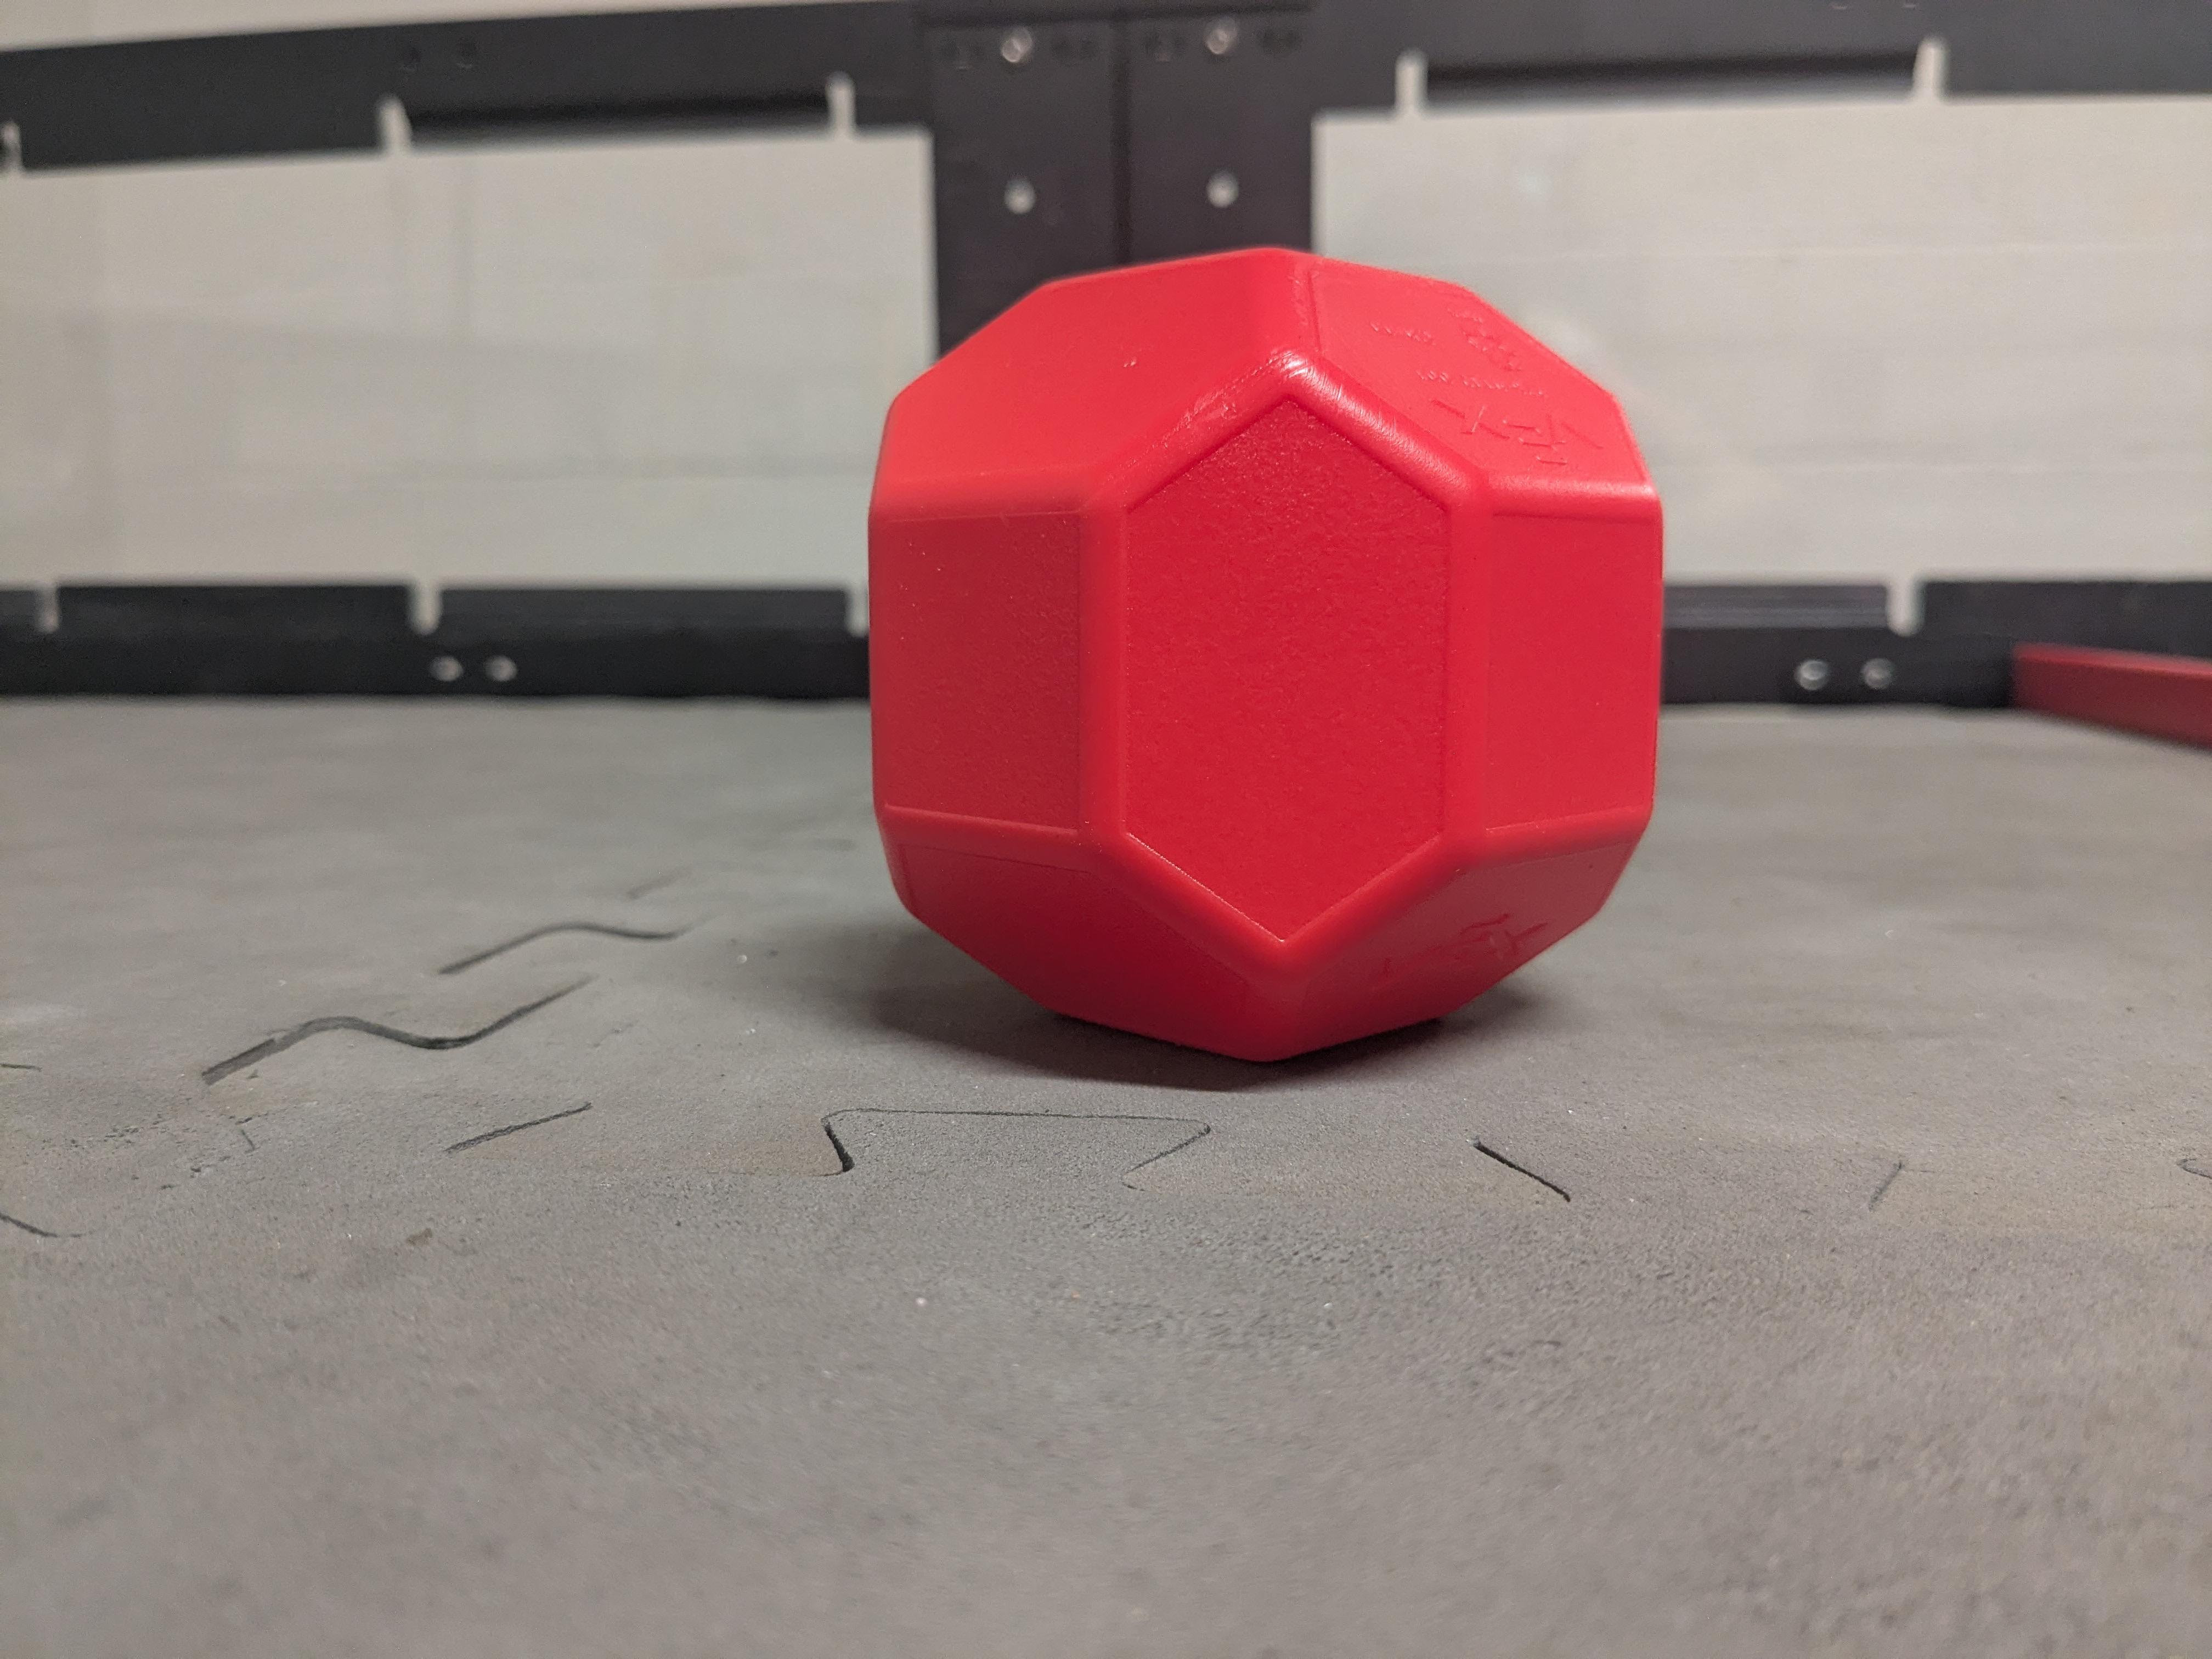Vex-Pieces-RED: (871, 251, 1669, 1065)
